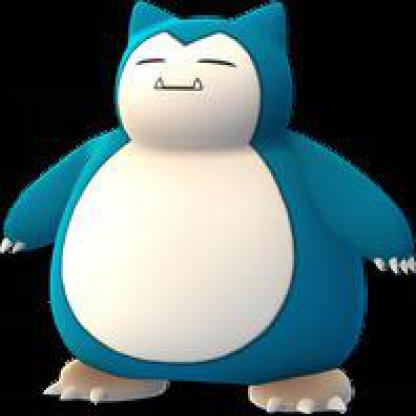Snorlax: (43, 40, 415, 415)
